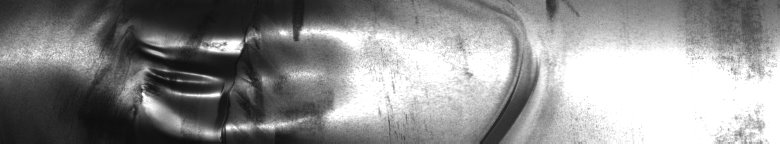ke: (92, 15, 390, 136)
